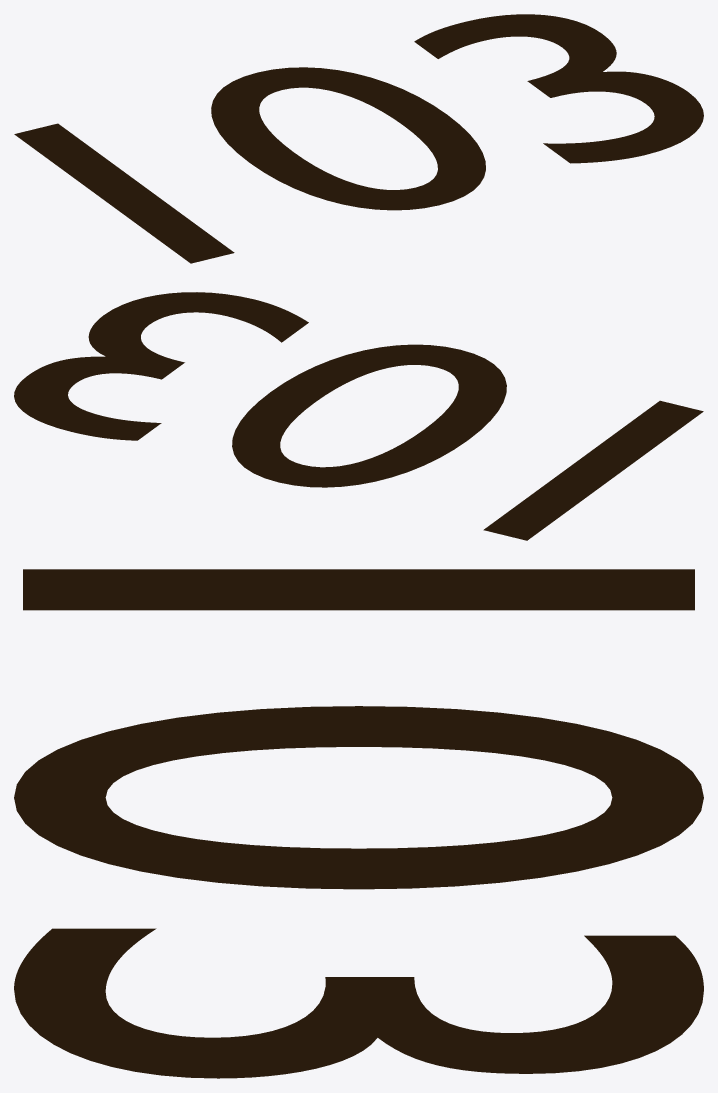
File: MOD_Numeros(103).fbx
The picture shows the model from 3 angles, top to bottom: view 1: azimuth 30°, elevation 25°; view 2: azimuth 150°, elevation 25°; view 3: azimuth 270°, elevation 25°; orthographic projection. The views are drawn at different scales.
Visible parts, largest first — view 1: Text.002; view 2: Text.002; view 3: Text.002.
Boxes of the visible parts, x1,y1,x2,y2 form: Text.002: [14, 14, 703, 263]; Text.002: [14, 292, 703, 540]; Text.002: [14, 569, 703, 1078].
Size of the model in its own units: 122 by 1.14e-05 by 70.
